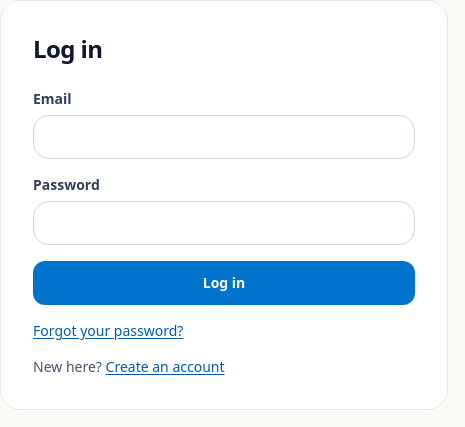
Test: LoginPage › AC-39 submitting: disables the button and both inputs, shows "Logging in…" and marks itself busy
Type "alex@example.com" into the field labelled "Email" at x=224, y=137, box [33,115,415,159]
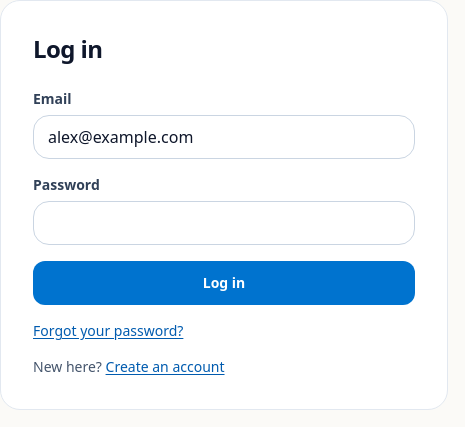
Type "a very long real password" into the password field labelled "Password" at x=224, y=223, box [33,201,415,245]
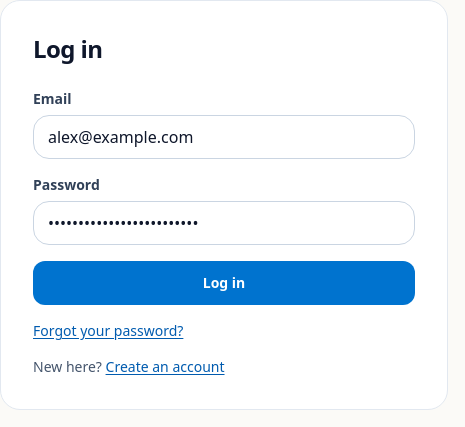
Click the button "Log in" at x=224, y=283, box [33,261,415,305]
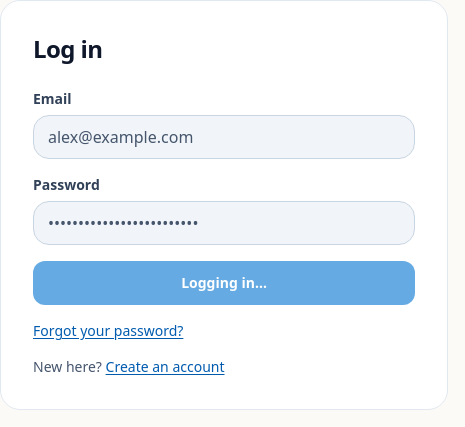
Expected: the field labelled "Email" is disabled, [33,115,415,159]
Expected: the password field labelled "Password" is disabled, [33,201,415,245]
Expected: the button "Logging in…" is disabled, [33,261,415,305]
